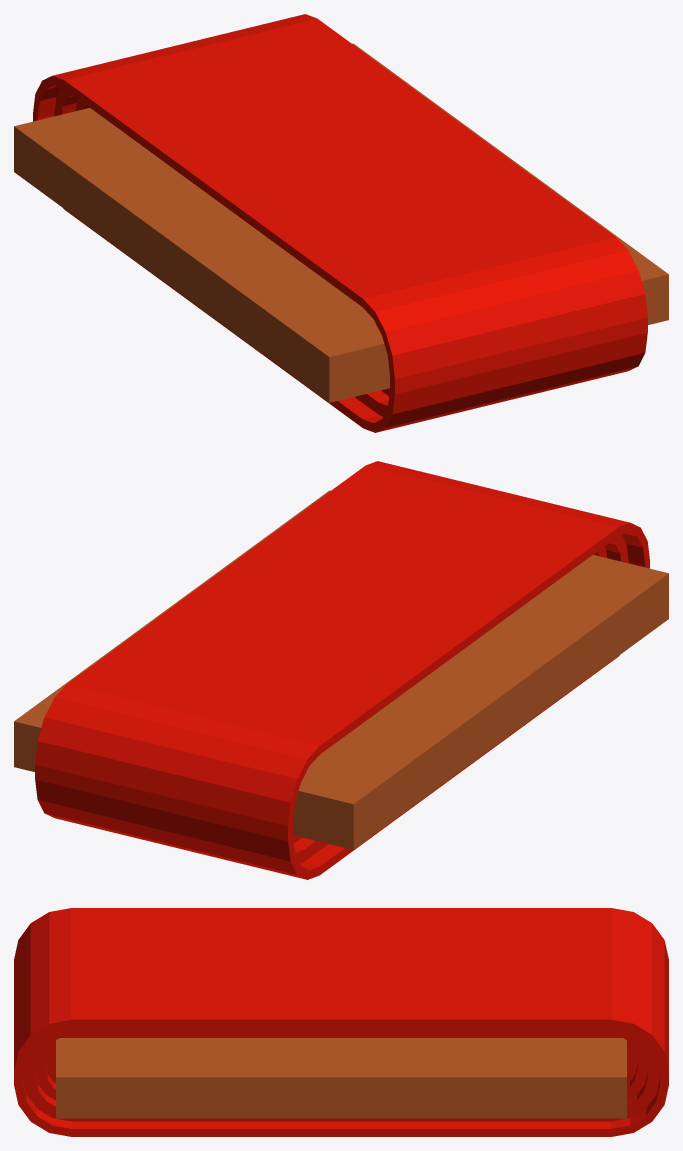
The model's file is alexc_fabric_rectangle.fbx.
3 renders of one model, top to bottom at view 1: azimuth 30°, elevation 25°; view 2: azimuth 150°, elevation 25°; view 3: azimuth 270°, elevation 25°, orthographic. The views are drawn at different scales.
Visible parts, largest first — view 1: rectangle_fabirc; view 2: rectangle_fabirc; view 3: rectangle_fabirc.
Part boxes in pixels (x1=…): rectangle_fabirc: x1=14, y1=14, x2=668, y2=432; rectangle_fabirc: x1=14, y1=461, x2=668, y2=879; rectangle_fabirc: x1=14, y1=908, x2=668, y2=1136.
Size of the model in its own units: 277 by 512 by 101.
